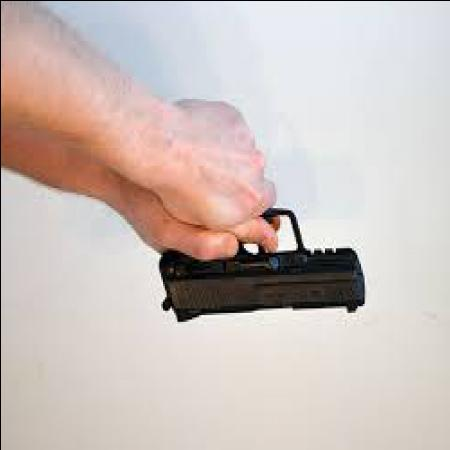Pistol: (162, 207, 364, 332)
